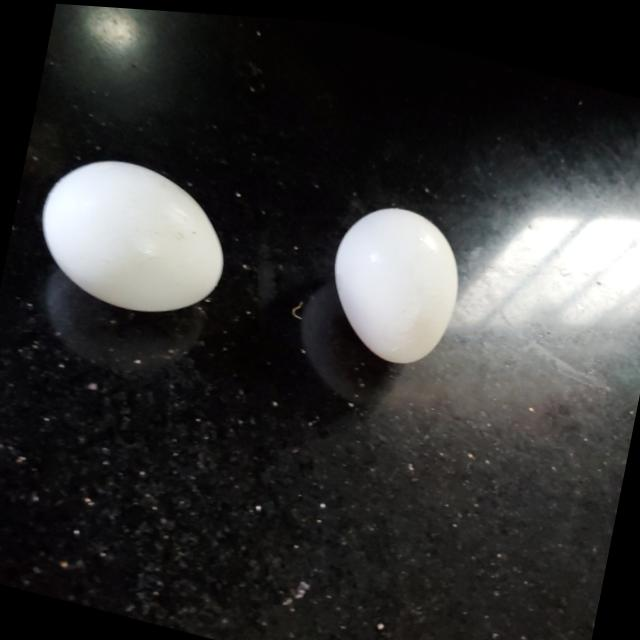egg: (28, 138, 246, 336), (316, 185, 476, 376)
